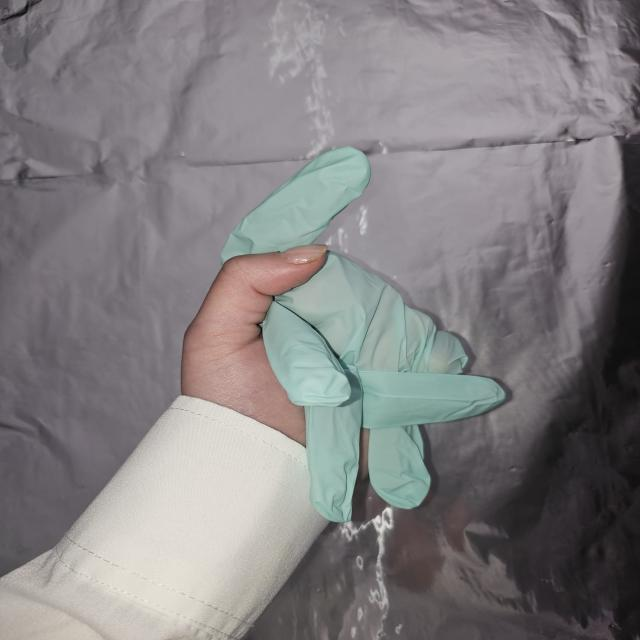glove_partial: (179, 144, 510, 526)
